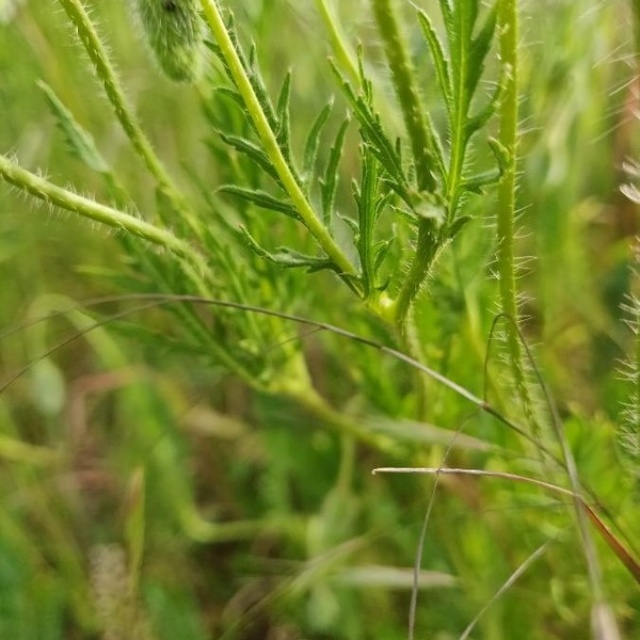obstacle: (86, 30, 537, 402)
